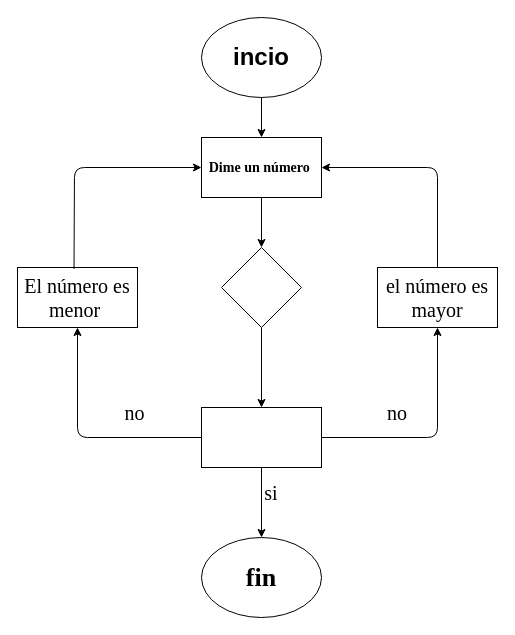
This 515x635 diagram has some shape labels left out. Here are the shapes that lost their labels. From the top down, the centre of each, then its label:
point 261,287: INTENTAR
point 261,437: es el numero
